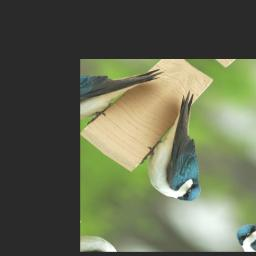Swallow: (116, 88, 256, 212)
